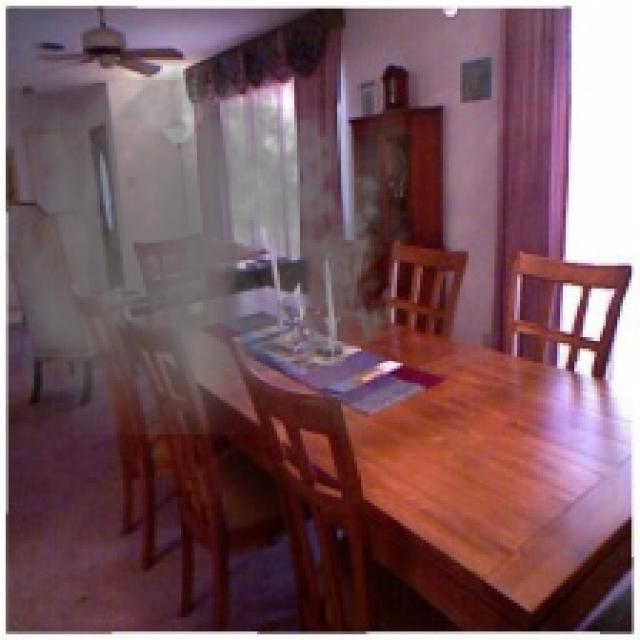Smoke: (17, 42, 406, 434)
